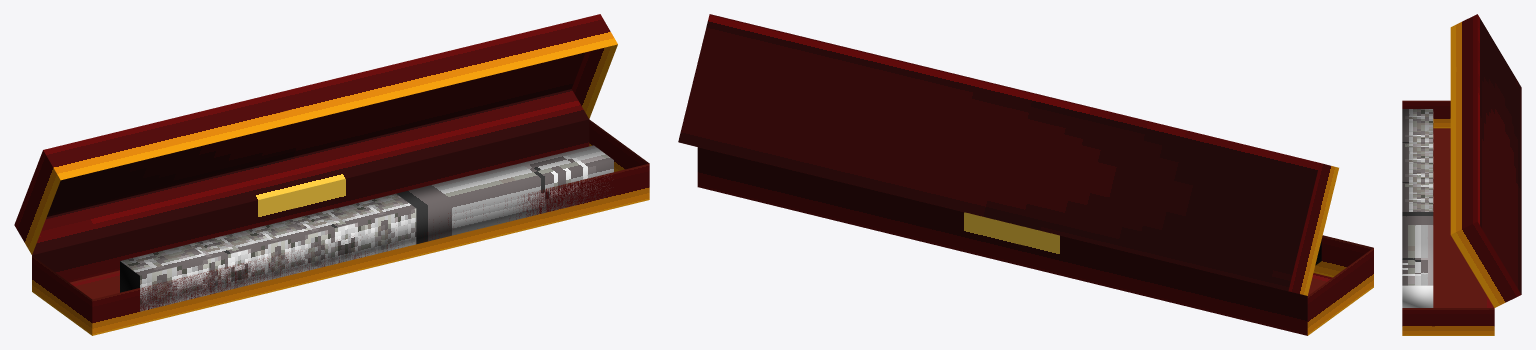
The picture shows the model from 3 angles, left to right: view 1: azimuth 30°, elevation 25°; view 2: azimuth 150°, elevation 25°; view 3: azimuth 270°, elevation 25°; orthographic projection. The views are drawn at different scales.
Parts seen in each view (by area): view 1: 1342gakki01_c; view 2: 1342gakki01_c; view 3: 1342gakki01_c.
Part boxes in pixels (x1,y1,x2,y2): 1342gakki01_c: (14, 14, 649, 335); 1342gakki01_c: (678, 14, 1373, 335); 1342gakki01_c: (1402, 14, 1521, 335).
Bounding box in the file's own units: 1.6 × 0.4114 × 0.3879.
Materials: 2 (2 with a texture image).
